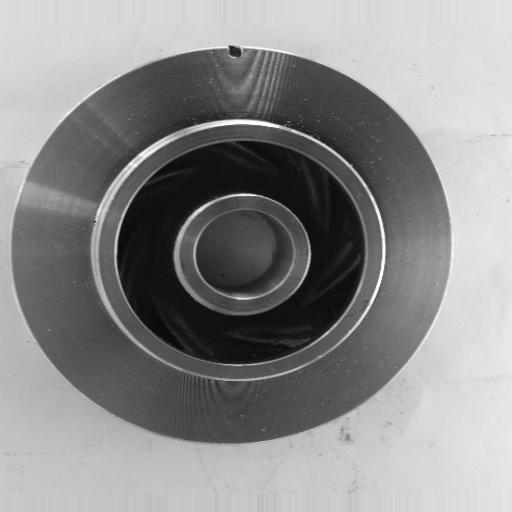pit: (214, 35, 251, 68)
unpolished_casting: (12, 41, 461, 448)
